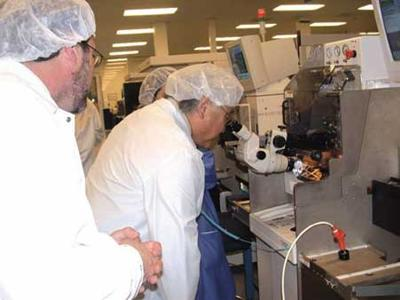person: (85, 63, 245, 299)
